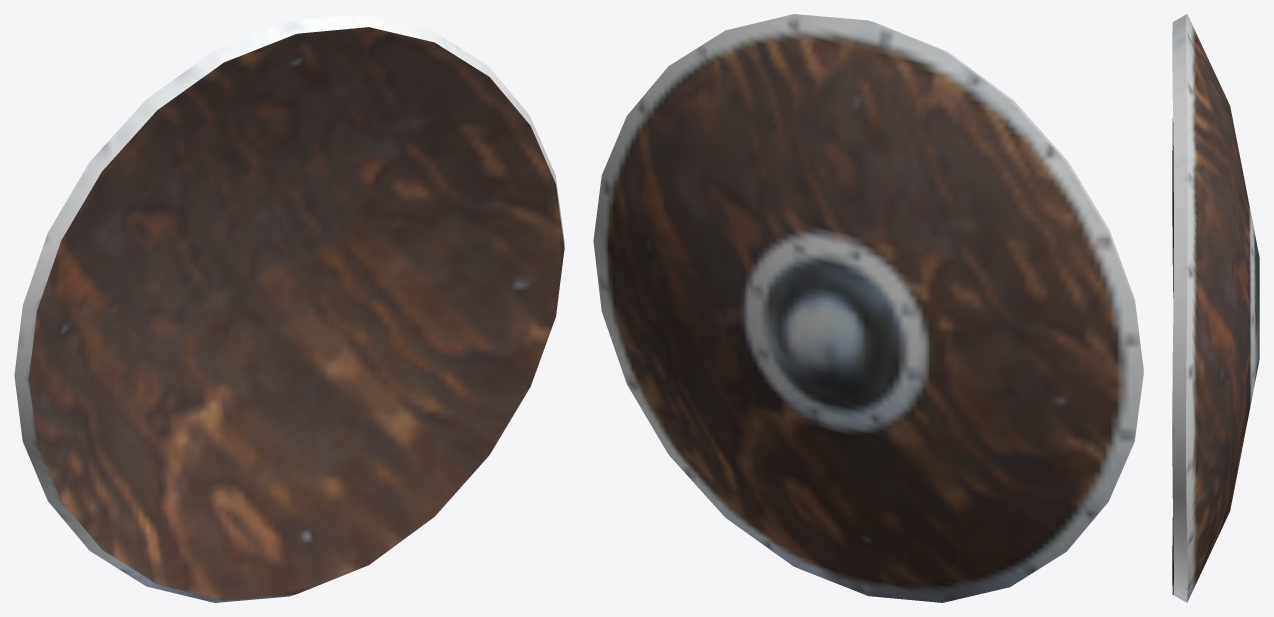
File: Shield03.FBX
The picture shows the model from 3 angles, left to right: view 1: azimuth 30°, elevation 25°; view 2: azimuth 150°, elevation 25°; view 3: azimuth 270°, elevation 25°; orthographic projection. The views are drawn at different scales.
Parts seen in each view (by area): view 1: Shield003; view 2: Shield003; view 3: Shield003.
Boxes of the visible parts, x1=… form: Shield003: x1=14, y1=14, x2=564, y2=602; Shield003: x1=593, y1=14, x2=1143, y2=602; Shield003: x1=1172, y1=14, x2=1259, y2=602.
Bounding box in the file's own units: 76.39 × 11.19 × 76.39.
